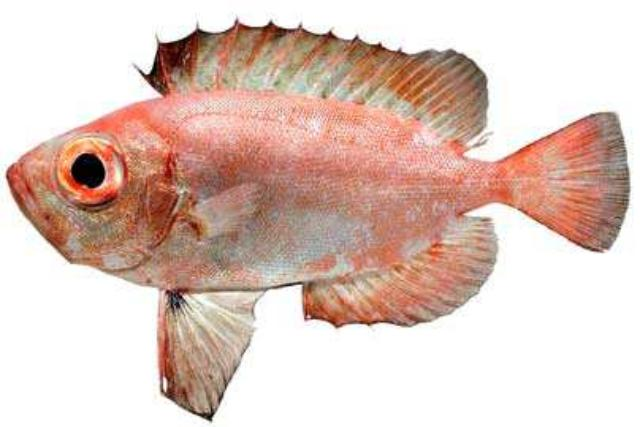Mulut: (0, 132, 58, 234)
Sirip Anal: (302, 209, 500, 331)
Sirip Dada: (177, 178, 281, 248)
Sirip Ekor: (514, 103, 634, 259)
Sirip Perut: (153, 278, 265, 426)
Sirip Punggung: (134, 16, 496, 154)
